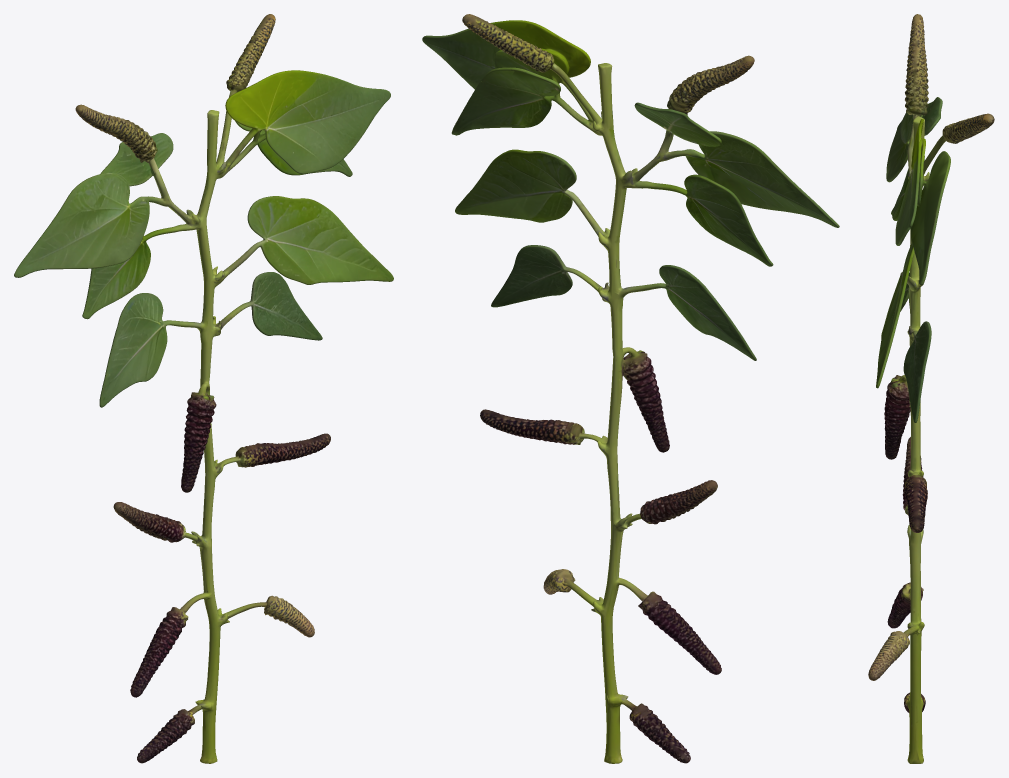
3 renders of one model, left to right at view 1: azimuth 30°, elevation 25°; view 2: azimuth 150°, elevation 25°; view 3: azimuth 270°, elevation 25°, orthographic. The views are drawn at different scales.
Parts seen in each view (by area): view 1: node_0; view 2: node_0; view 3: node_0.
Boxes of the visible parts, x1=… form: node_0: x1=14, y1=14, x2=393, y2=763; node_0: x1=422, y1=14, x2=839, y2=763; node_0: x1=868, y1=14, x2=994, y2=763.
Bounding box in the file's own units: 0.6465 × 1.13 × 0.1853.
1 material, 1 textured.
